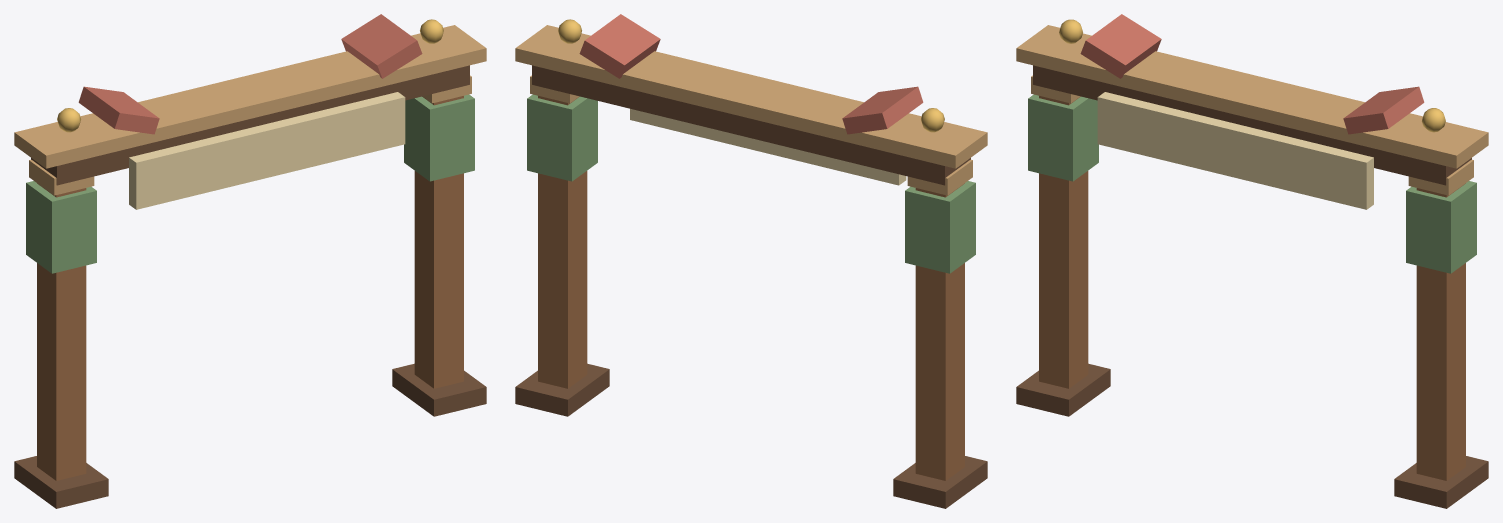
File: market-entrance.glb
3 views of the same model, side by side, from view 1: azimuth 30°, elevation 25°; view 2: azimuth 150°, elevation 25°; view 3: azimuth 330°, elevation 25° (orthographic).
Parts seen in each view (by area): view 1: market-entrance_wood, market-entrance_woodLight, market-entrance_canvas, market-entrance_woodDark, market-entrance_sage, market-entrance_awningMain, market-entrance_gold; view 2: market-entrance_wood, market-entrance_woodLight, market-entrance_woodDark, market-entrance_sage, market-entrance_awningMain, market-entrance_canvas, market-entrance_gold; view 3: market-entrance_wood, market-entrance_woodLight, market-entrance_canvas, market-entrance_woodDark, market-entrance_sage, market-entrance_awningMain, market-entrance_gold.
Part boxes in pixels (x1,y1,x2,y2): market-entrance_wood: [37, 96, 463, 480]; market-entrance_woodLight: [14, 25, 486, 195]; market-entrance_canvas: [129, 92, 405, 209]; market-entrance_woodDark: [14, 65, 486, 508]; market-entrance_sage: [26, 94, 474, 273]; market-entrance_awningMain: [78, 14, 422, 134]; market-entrance_gold: [57, 19, 443, 132]; market-entrance_wood: [538, 96, 964, 480]; market-entrance_woodLight: [515, 25, 987, 195]; market-entrance_woodDark: [515, 65, 987, 508]; market-entrance_sage: [527, 94, 975, 273]; market-entrance_awningMain: [579, 14, 923, 134]; market-entrance_canvas: [630, 108, 906, 185]; market-entrance_gold: [558, 19, 944, 132]; market-entrance_wood: [1039, 96, 1465, 480]; market-entrance_woodLight: [1016, 25, 1488, 195]; market-entrance_canvas: [1097, 92, 1373, 209]; market-entrance_woodDark: [1016, 65, 1488, 508]; market-entrance_sage: [1028, 94, 1476, 273]; market-entrance_awningMain: [1080, 14, 1424, 134]; market-entrance_gold: [1059, 19, 1445, 132].
Size of the model in its own units: 3.52 by 2.88 by 0.58.
